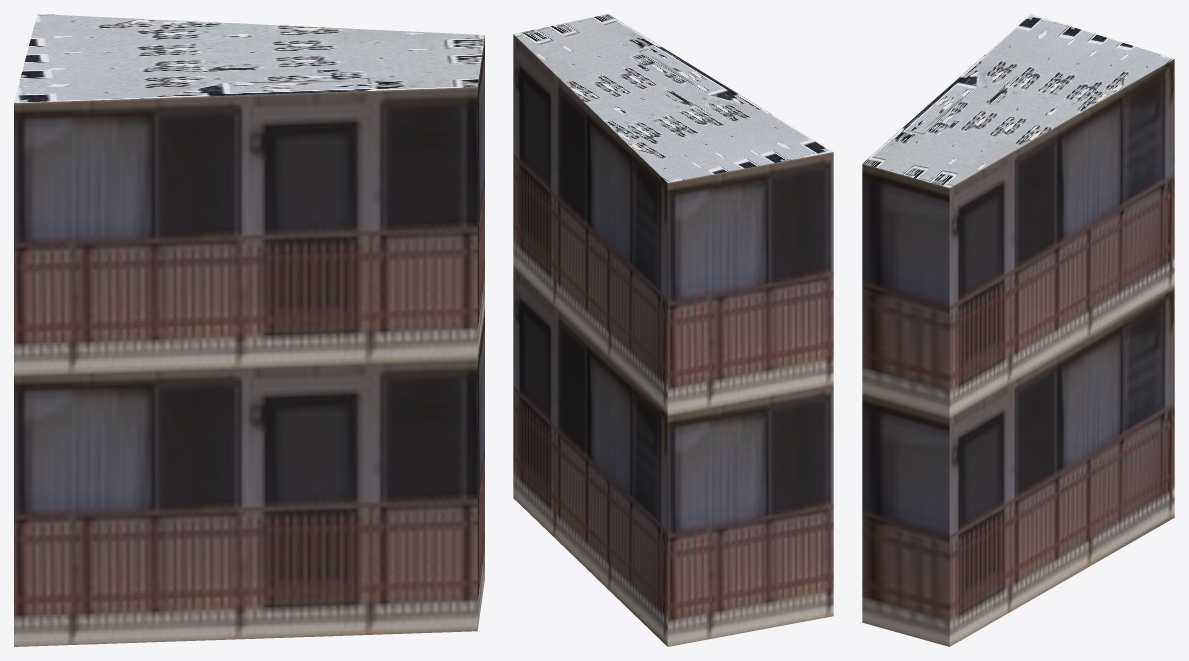
File: ResTex__3928.fbx
3 views of the same model, side by side, from view 1: azimuth 30°, elevation 25°; view 2: azimuth 150°, elevation 25°; view 3: azimuth 270°, elevation 25° (orthographic). The views are drawn at different scales.
Visible parts, largest first — view 1: CityEngineMaterial_6_m, CityEngineMaterial_8_m; view 2: CityEngineMaterial_6_m, CityEngineMaterial_8_m; view 3: CityEngineMaterial_6_m, CityEngineMaterial_8_m.
Boxes of the visible parts, left/top/right/bottom form: CityEngineMaterial_6_m: left=14, top=36, right=484, bottom=646; CityEngineMaterial_8_m: left=14, top=14, right=484, bottom=102; CityEngineMaterial_6_m: left=513, top=34, right=833, bottom=646; CityEngineMaterial_8_m: left=514, top=14, right=832, bottom=182; CityEngineMaterial_6_m: left=862, top=59, right=1174, bottom=646; CityEngineMaterial_8_m: left=862, top=14, right=1174, bottom=187.
Bounding box in the file's own units: 4.88 × 6 × 3.71.
Materials: 2 (2 with a texture image).
